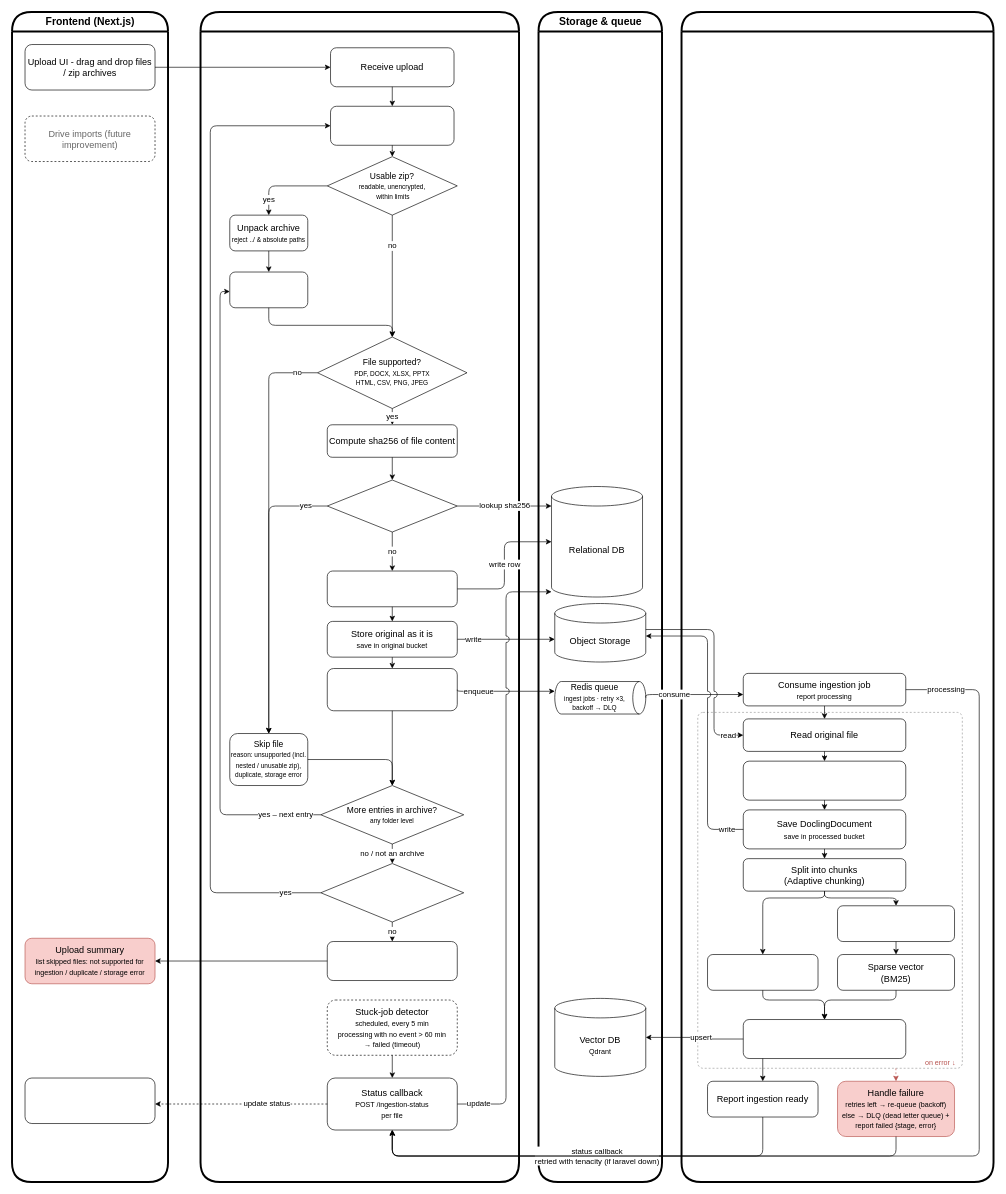
Image size: 1006x1194. Some labels were removed from this diagram. The box of each missing label's shape, as (x1, y1, x2, y2) in pixels:
Create File row status = pending: (327, 570, 457, 607)
Dense embeddings (Qwen3-Embedding-4B): (707, 954, 818, 990)
Duplicate? same sha256 in course: (327, 479, 457, 532)
Enqueue ingestion job Redis down → failed: (327, 668, 457, 711)
Ingestion status view pending / processing / ready / failed: (24, 1077, 155, 1124)
Laravel backend: (199, 11, 520, 1183)
More uploaded files?: (320, 863, 464, 922)
Next file entry all subfolders, dirs skipped: (229, 271, 308, 308)
Next uploaded file: (330, 106, 454, 145)
Normalize for BM25 strip diacritics, lowercase, stem: (837, 905, 955, 942)
Parse with Docling: (743, 760, 906, 800)
Python ingestion worker: (680, 11, 994, 1183)
Return response created files + skipped files with reason: (327, 941, 457, 981)
Upsert points to Qdrant: (743, 1019, 906, 1059)
